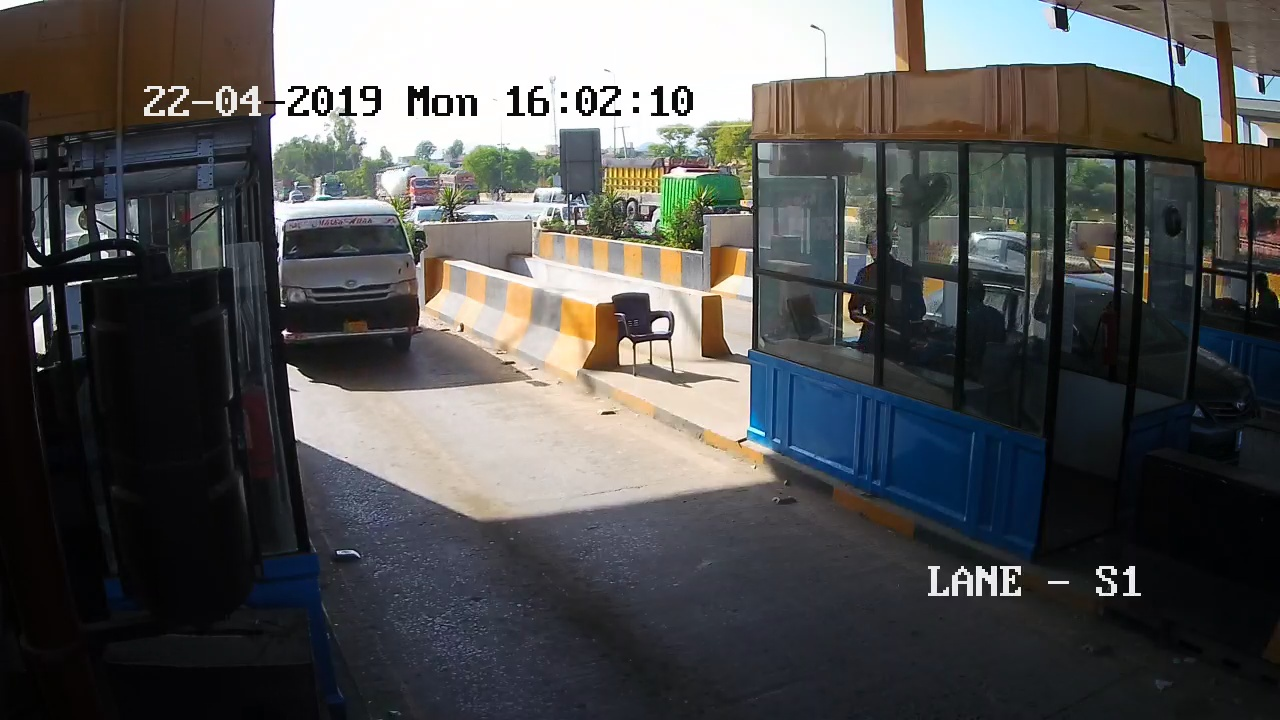car: (279, 207, 434, 381)
